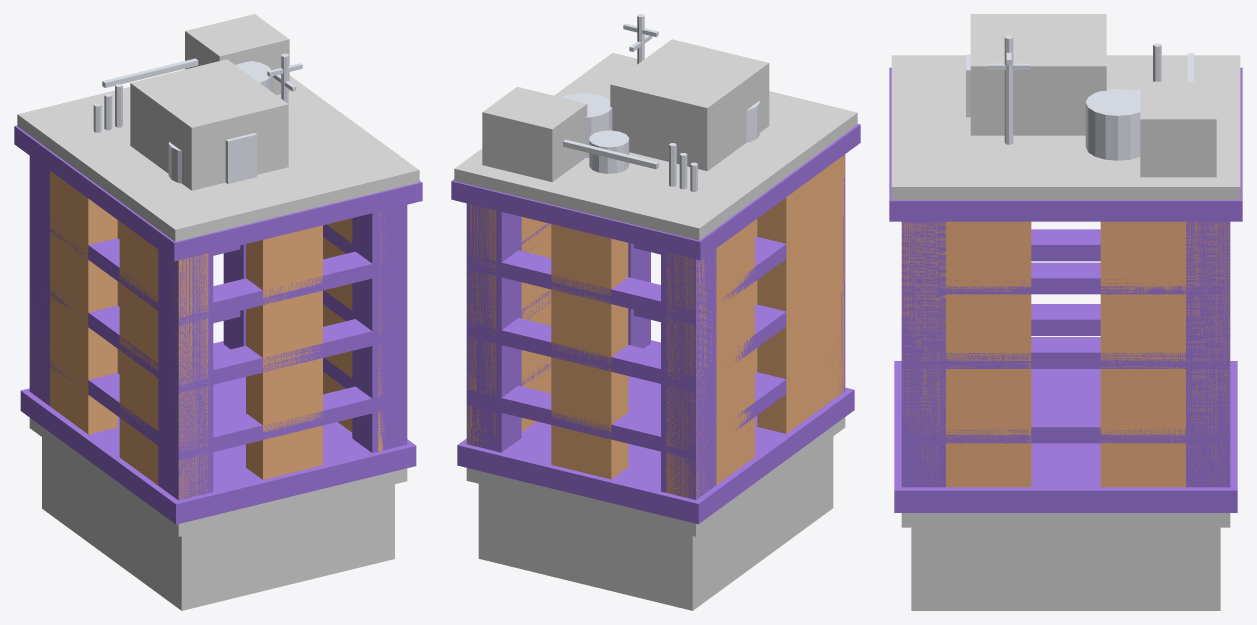
File: tong-lau-b.glb
3 views of the same model, side by side, from view 1: azimuth 30°, elevation 25°; view 2: azimuth 150°, elevation 25°; view 3: azimuth 270°, elevation 25° (orthographic). The views are drawn at different scales.
Parts seen in each view (by area): view 1: tong lau b arcade, tong lau b parapet, tong lau b pier.001, tong lau b plinth, tong lau b lift overrun, tong lau b pier.009, tong lau b corner.001, tong lau b pier.008, tong lau b corner.003, tong lau b cornice, tong lau b corner, tong lau b soffit (+19 smaller); view 2: tong lau b arcade, tong lau b parapet, tong lau b pier.008, tong lau b pier.004, tong lau b lift overrun, tong lau b plinth, tong lau b corner, tong lau b pier.009, tong lau b corner.002, tong lau b cornice, tong lau b stair bulkhead, tong lau b pier.006 (+19 smaller); view 3: tong lau b parapet, tong lau b arcade, tong lau b pier.007, tong lau b pier.006, tong lau b plinth, tong lau b lift overrun, tong lau b corner.002, tong lau b corner.003, tong lau b cornice, tong lau b stair bulkhead, tong lau b soffit, tong lau b water tank (+13 smaller).
Boxes of the visible parts, box(x1,y1,x2,y2) form: tong lau b arcade: box(42, 437, 394, 610); tong lau b parapet: box(17, 75, 419, 241); tong lau b pier.001: box(246, 225, 322, 479); tong lau b plinth: box(20, 341, 416, 524); tong lau b lift overrun: box(130, 59, 288, 190); tong lau b pier.009: box(30, 170, 117, 434); tong lau b corner.001: box(158, 250, 213, 500); tong lau b pier.008: box(119, 222, 207, 499); tong lau b corner.003: box(352, 205, 407, 452); tong lau b cornice: box(14, 125, 422, 261); tong lau b corner: box(29, 156, 49, 405); tong lau b soffit: box(29, 418, 407, 536); tong lau b arcade: box(478, 436, 833, 610); tong lau b parapet: box(454, 53, 857, 240); tong lau b pier.008: box(757, 155, 845, 433); tong lau b pier.004: box(551, 224, 628, 479); tong lau b lift overrun: box(610, 39, 769, 171); tong lau b plinth: box(457, 340, 854, 524); tong lau b corner: box(661, 249, 716, 499); tong lau b pier.009: box(667, 220, 754, 499); tong lau b corner.002: box(466, 203, 521, 452); tong lau b cornice: box(451, 124, 860, 260); tong lau b stair bulkhead: box(482, 87, 587, 182); tong lau b pier.006: box(466, 204, 551, 447); tong lau b parapet: box(891, 55, 1240, 200); tong lau b arcade: box(911, 527, 1220, 610); tong lau b pier.007: box(901, 221, 1031, 487); tong lau b pier.006: box(1100, 221, 1228, 487); tong lau b plinth: box(894, 361, 1237, 512); tong lau b lift overrun: box(970, 14, 1106, 135); tong lau b corner.002: box(1186, 221, 1230, 487); tong lau b corner.003: box(901, 221, 945, 487); tong lau b cornice: box(889, 67, 1242, 221); tong lau b stair bulkhead: box(1140, 81, 1216, 177); tong lau b soffit: box(901, 513, 1230, 527); tong lau b water tank: box(1085, 89, 1140, 160).
Bounding box in the file's own units: 2.56 × 4.8 × 2.86.
